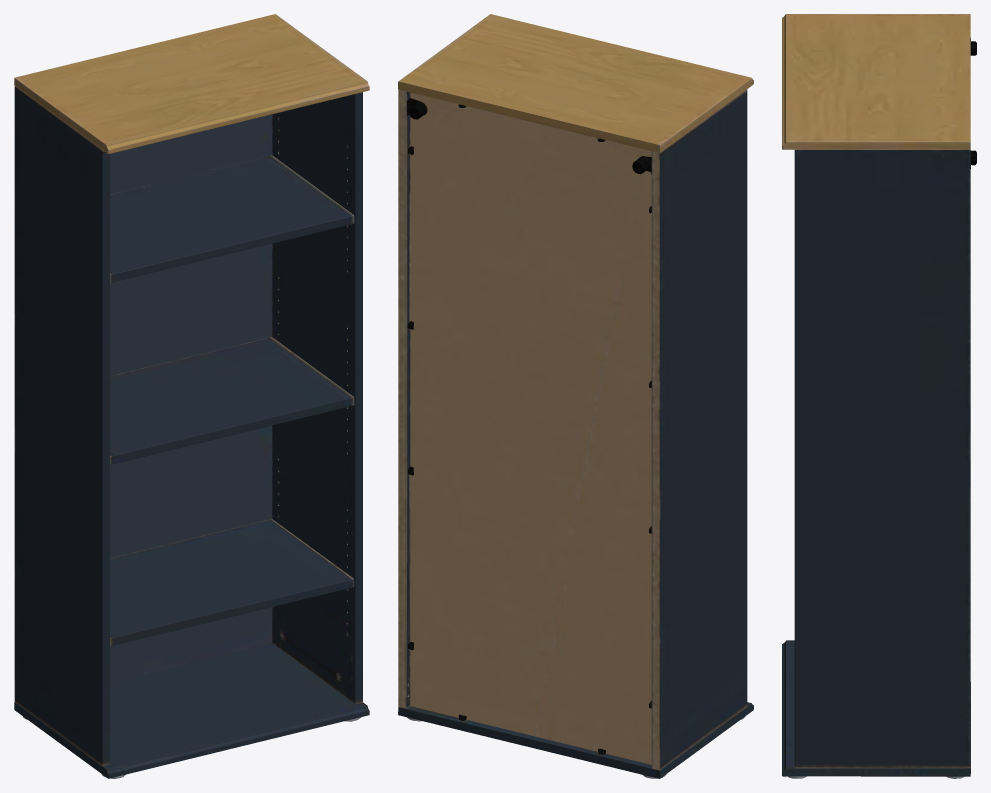
3 renders of one model, left to right at view 1: azimuth 30°, elevation 25°; view 2: azimuth 150°, elevation 25°; view 3: azimuth 270°, elevation 25°, orthographic.
Visible parts, largest first — view 1: 20520354-SKRUVBY001; view 2: 20520354-SKRUVBY001; view 3: 20520354-SKRUVBY001.
Boxes of the visible parts, left/top/right/bottom form: 20520354-SKRUVBY001: left=14, top=14, right=369, bottom=778; 20520354-SKRUVBY001: left=398, top=14, right=753, bottom=778; 20520354-SKRUVBY001: left=782, top=14, right=976, bottom=778.
Bounding box in the file's own units: 0.602 × 1.4 × 0.3872.
Materials: 1 (1 with a texture image).
